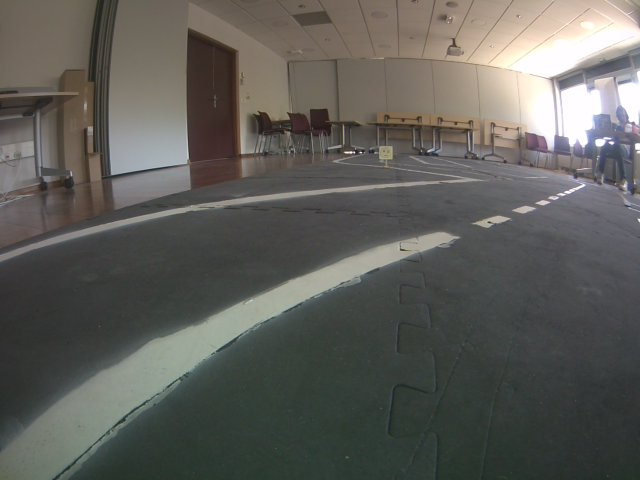Smiley: (377, 145, 394, 161)
